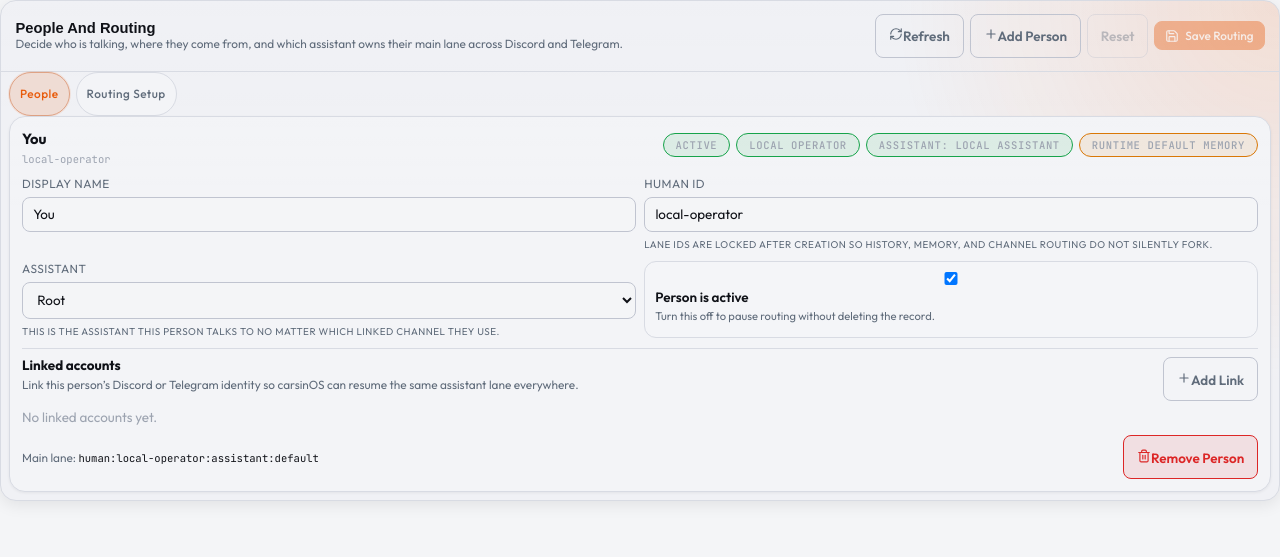
Scenario: PeopleRoutingSection authoritative Directory home › saves the complete routing configuration exactly as drafted
The image size is (1280, 557).
Select "Root" in the dropdown. click: (329, 300)
box: [22, 282, 636, 319]
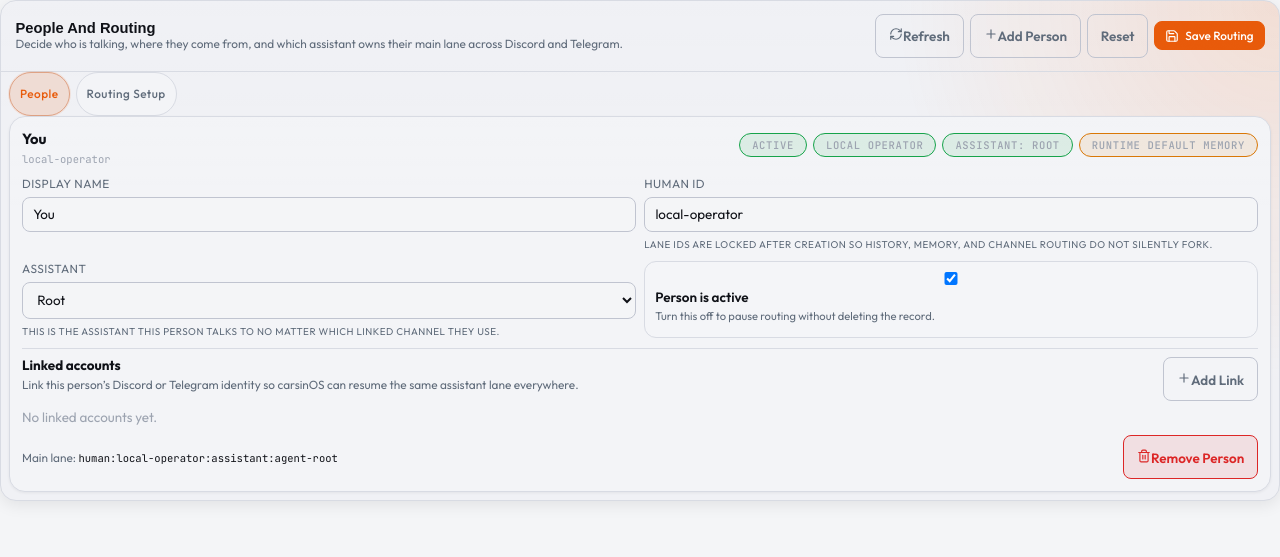
Click the button "Save Routing". click: (1209, 36)
box: [1154, 21, 1265, 50]
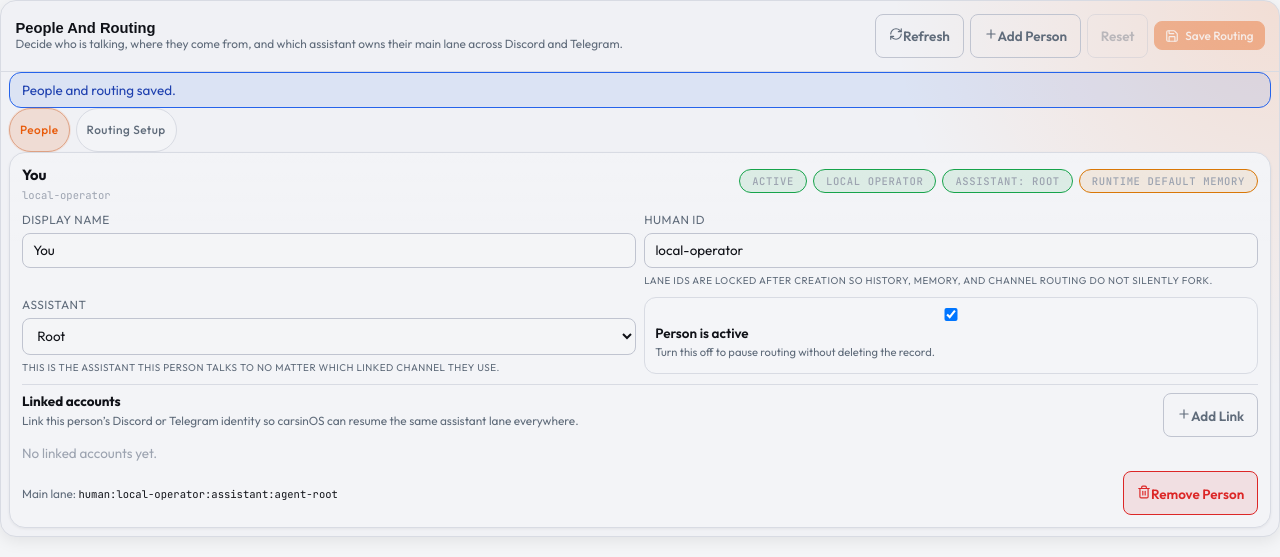
Check: the text "assistant: Root" is shown, box [942, 168, 1073, 192]
Check: the text "People and routing saved." is shown, box [9, 72, 1271, 108]
